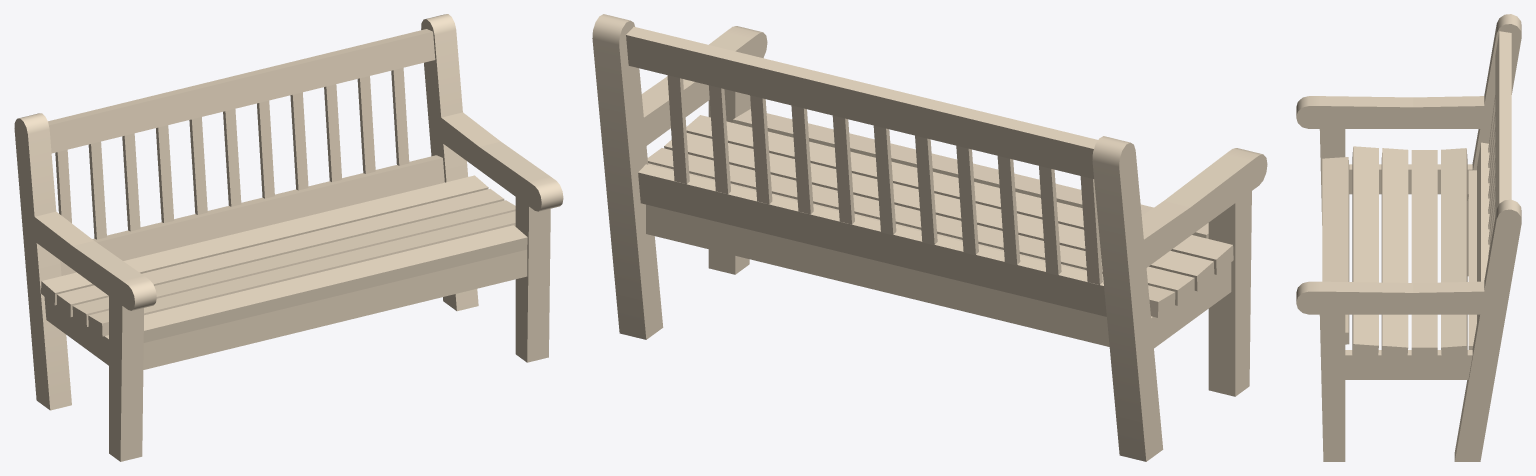
3 views of the same model, side by side, from view 1: azimuth 30°, elevation 25°; view 2: azimuth 150°, elevation 25°; view 3: azimuth 270°, elevation 25° (orthographic). The views are drawn at different scales.
Visible parts, largest first — view 1: 3DGeom~16 (×4), 3DGeom~11 (×4), 3DGeom~3 (×2), 3DGeom~1 (×2), 3DGeom~5, 3DGeom~22, 3DGeom~23, 3DGeom~24, 3DGeom~25, 3DGeom~21, 3DGeom~27, 3DGeom~29 (+4 smaller); view 2: 3DGeom~16 (×4), 3DGeom~1 (×2), 3DGeom~11 (×4), 3DGeom~3 (×2), 3DGeom~5, 3DGeom~23, 3DGeom~22, 3DGeom~25, 3DGeom~24, 3DGeom~21, 3DGeom~27, 3DGeom~28 (+4 smaller); view 3: 3DGeom~11 (×4), 3DGeom~3 (×2), 3DGeom~16 (×4), 3DGeom~1 (×2), 3DGeom~5 (×2).
Part boxes in pixels (x1,y1,x2,y2): 3DGeom~16 (×4): (48,29,527,369); 3DGeom~11 (×4): (41,175,515,336); 3DGeom~3 (×2): (34,112,563,461); 3DGeom~1 (×2): (14,14,478,410); 3DGeom~5: (44,297,108,365); 3DGeom~22: (122,133,140,231); 3DGeom~23: (156,125,174,223); 3DGeom~24: (189,117,207,214); 3DGeom~25: (223,109,241,206); 3DGeom~21: (88,141,106,239); 3DGeom~27: (290,92,308,190); 3DGeom~29: (357,76,375,173); 3DGeom~16 (×4): (626,26,1208,346); 3DGeom~1 (×2): (592,14,1163,461); 3DGeom~11 (×4): (647,115,1233,317); 3DGeom~3 (×2): (641,26,1267,396); 3DGeom~5: (1151,262,1231,348); 3DGeom~23: (956,145,978,255); 3DGeom~22: (997,156,1020,265); 3DGeom~25: (873,125,896,235); 3DGeom~24: (915,135,937,245); 3DGeom~21: (1039,166,1061,275); 3DGeom~27: (791,105,813,214); 3DGeom~28: (750,95,772,204); 3DGeom~11 (×4): (1352,146,1467,359); 3DGeom~3 (×2): (1296,96,1484,461); 3DGeom~16 (×4): (1322,31,1511,349); 3DGeom~1 (×2): (1454,14,1521,461); 3DGeom~5 (×2): (1345,164,1472,379).
Size of the model in its own units: 1.64 by 0.9753 by 0.79.
